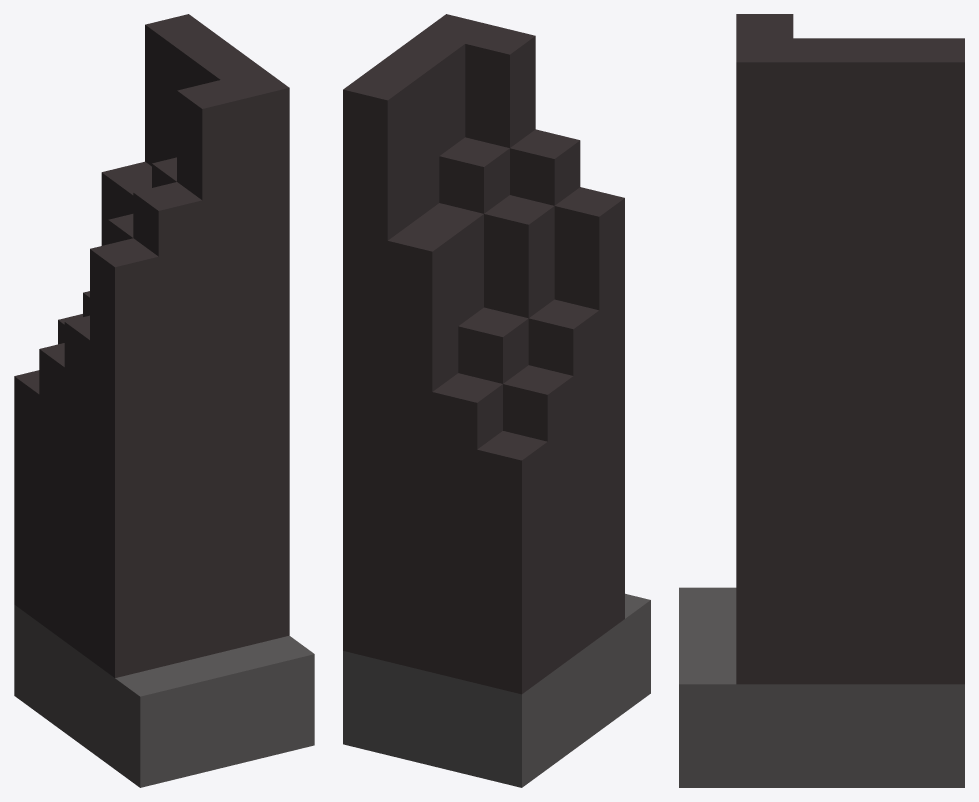
File: gorilla__arm_l.glb
3 views of the same model, side by side, from view 1: azimuth 30°, elevation 25°; view 2: azimuth 150°, elevation 25°; view 3: azimuth 270°, elevation 25° (orthographic). The views are drawn at different scales.
Visible parts, largest first — view 1: gorilla__arm_l; view 2: gorilla__arm_l; view 3: gorilla__arm_l.
Part boxes in pixels (x1,y1,x2,y2): gorilla__arm_l: (14,14,314,787); gorilla__arm_l: (343,14,650,787); gorilla__arm_l: (679,14,964,787).
Bounding box in the file's own units: 0.4 × 1.4 × 0.5.
Materials: 1 (1 with a texture image).
